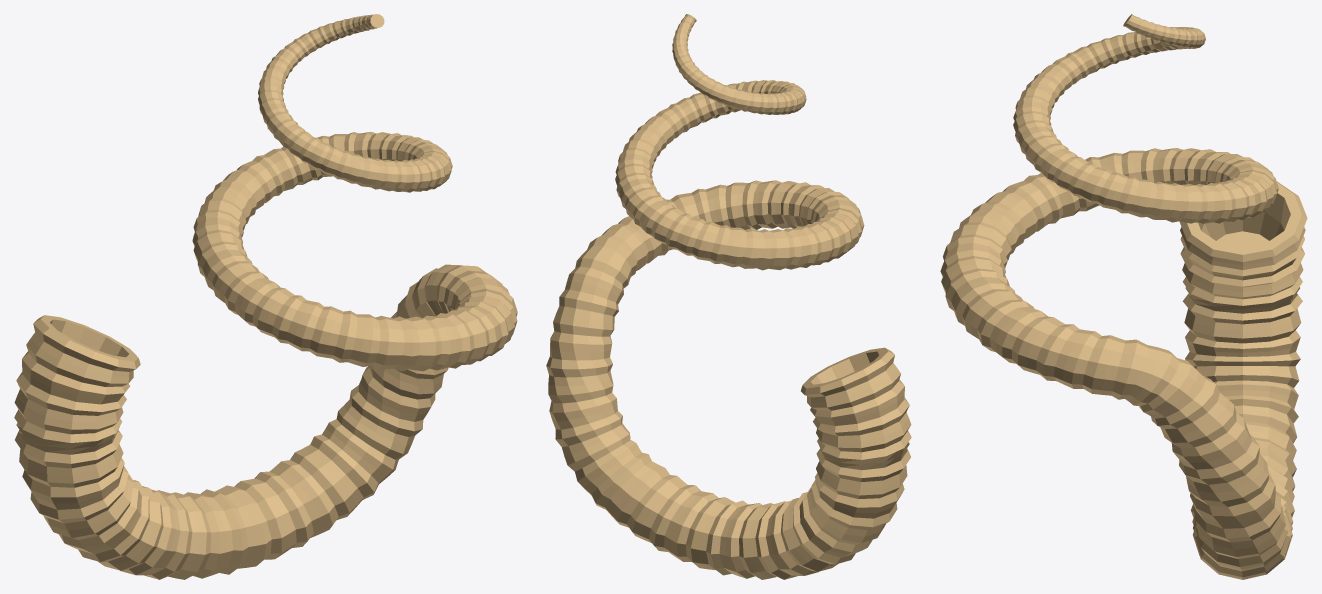
Rendered from didymoceras.glb.
3 views of the same model, side by side, from view 1: azimuth 30°, elevation 25°; view 2: azimuth 150°, elevation 25°; view 3: azimuth 270°, elevation 25° (orthographic). The views are drawn at different scales.
Parts seen in each view (by area): view 1: Continuous open helix and hooked final chamber; view 2: Continuous open helix and hooked final chamber; view 3: Continuous open helix and hooked final chamber.
Boxes of the visible parts, x1,y1,x2,y2 form: Continuous open helix and hooked final chamber: (14,14,517,579); Continuous open helix and hooked final chamber: (546,14,911,579); Continuous open helix and hooked final chamber: (940,14,1307,579).
Bounding box in the file's own units: 0.23 × 0.3 × 0.17.
